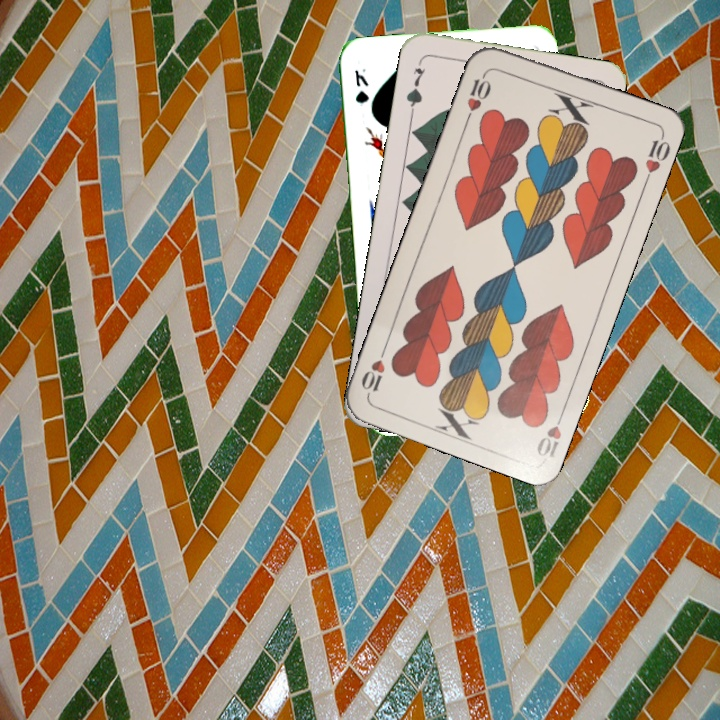G7: (402, 56, 427, 115)
GK: (350, 65, 371, 109)
H10: (532, 405, 568, 461), (462, 67, 494, 124)
